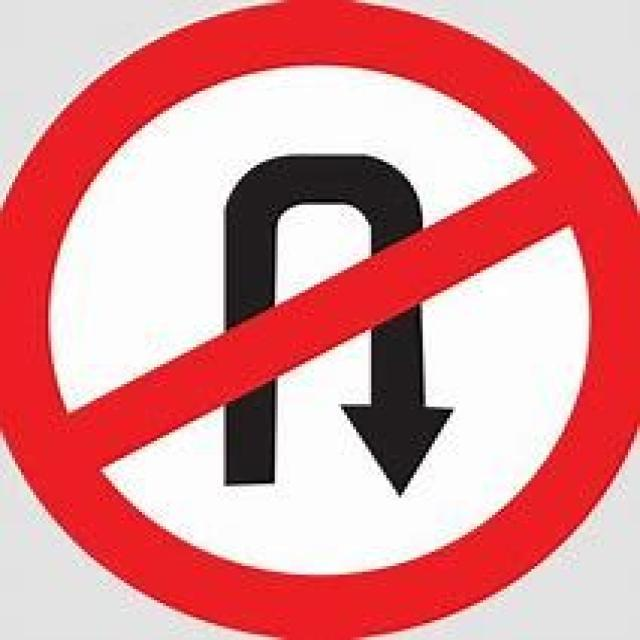u turn prohibited: (17, 27, 623, 616)
